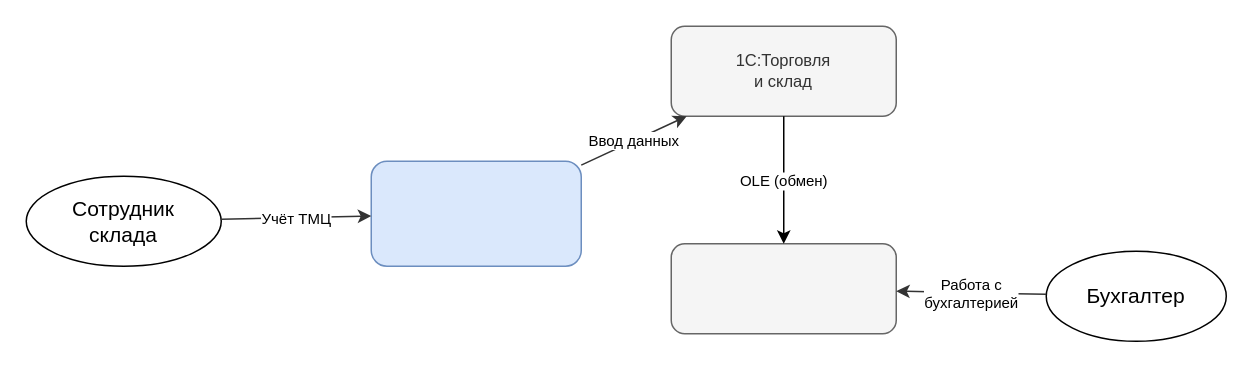
Some shapes in this 1253 by 368 pixel diagram are drawn without their labels. The centre of each missing label's shape, as x and y in pixels:
1С:Бухгалтерия предприятия: the point at 783,288
4.0 Учёт ТМЦ: the point at 475,213
